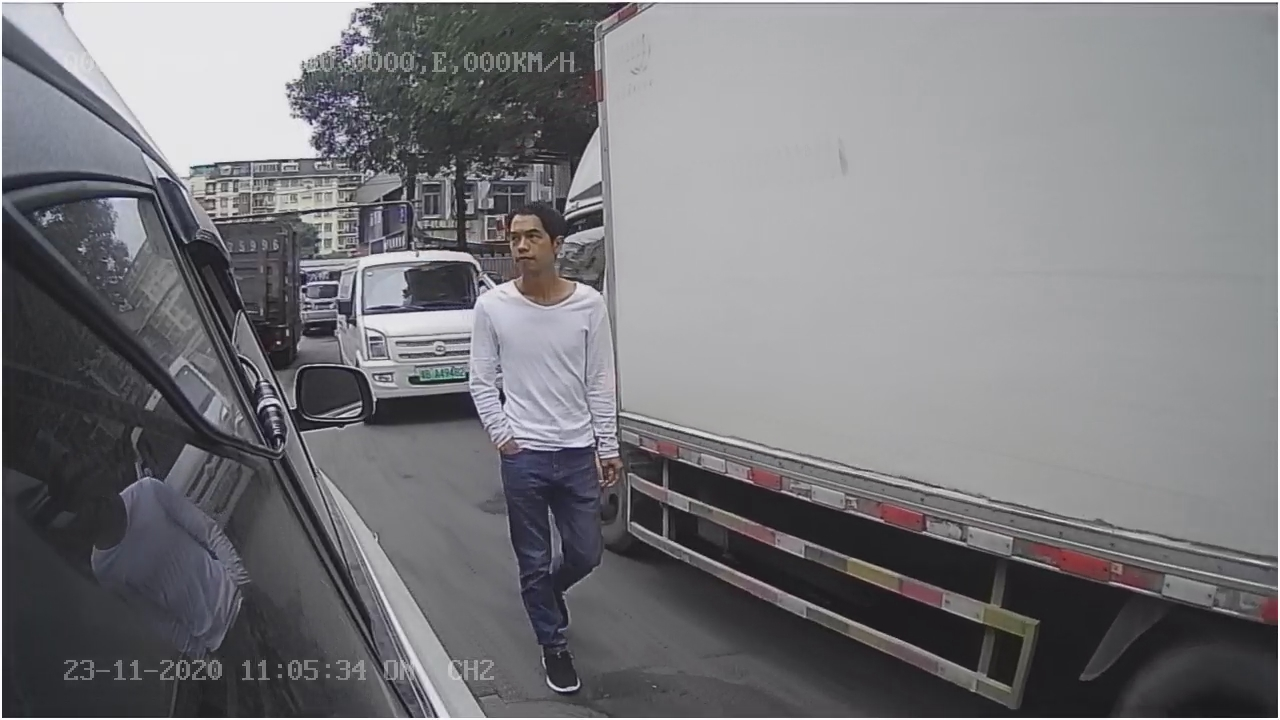person: (462, 195, 630, 704)
